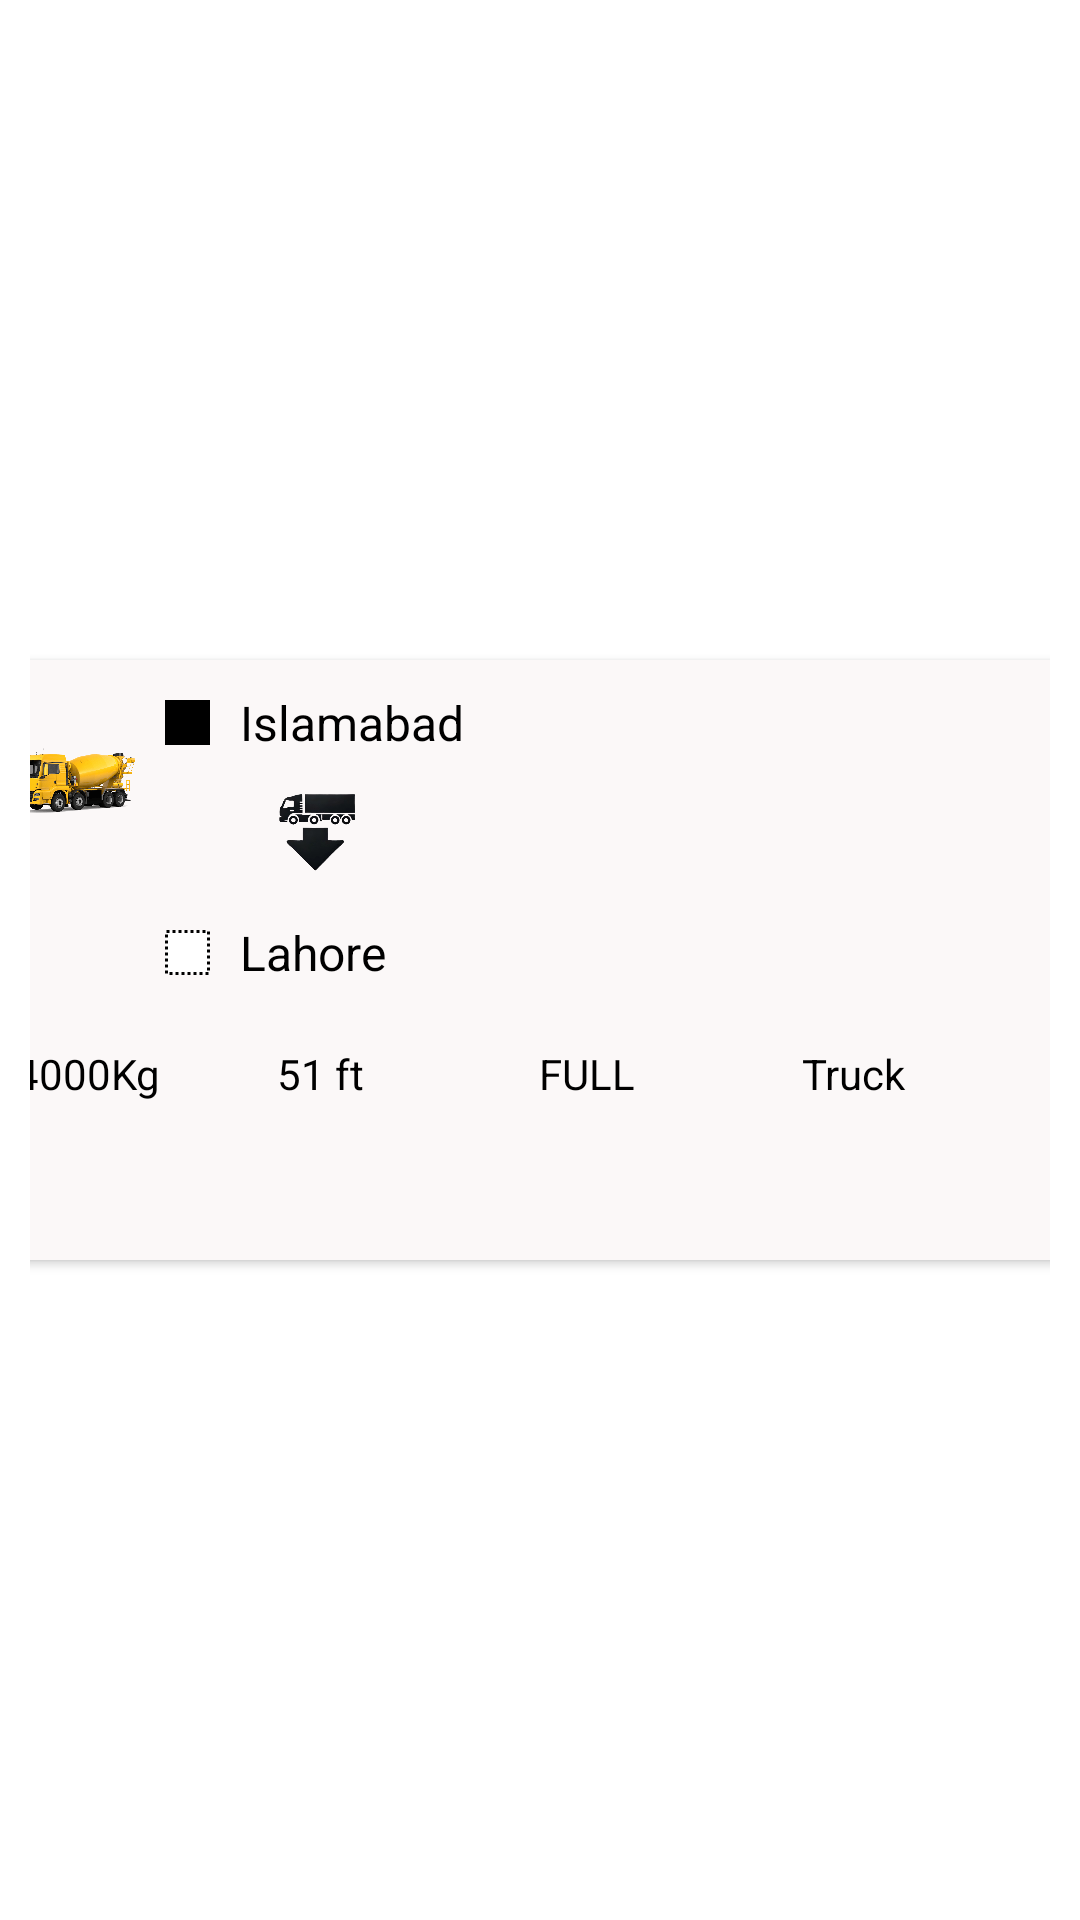

Icons on this 1080 x 1920 Android screen, each with the point to tap as point (x, y):
hollowrect: point (187, 952)
truck: point (82, 780)
